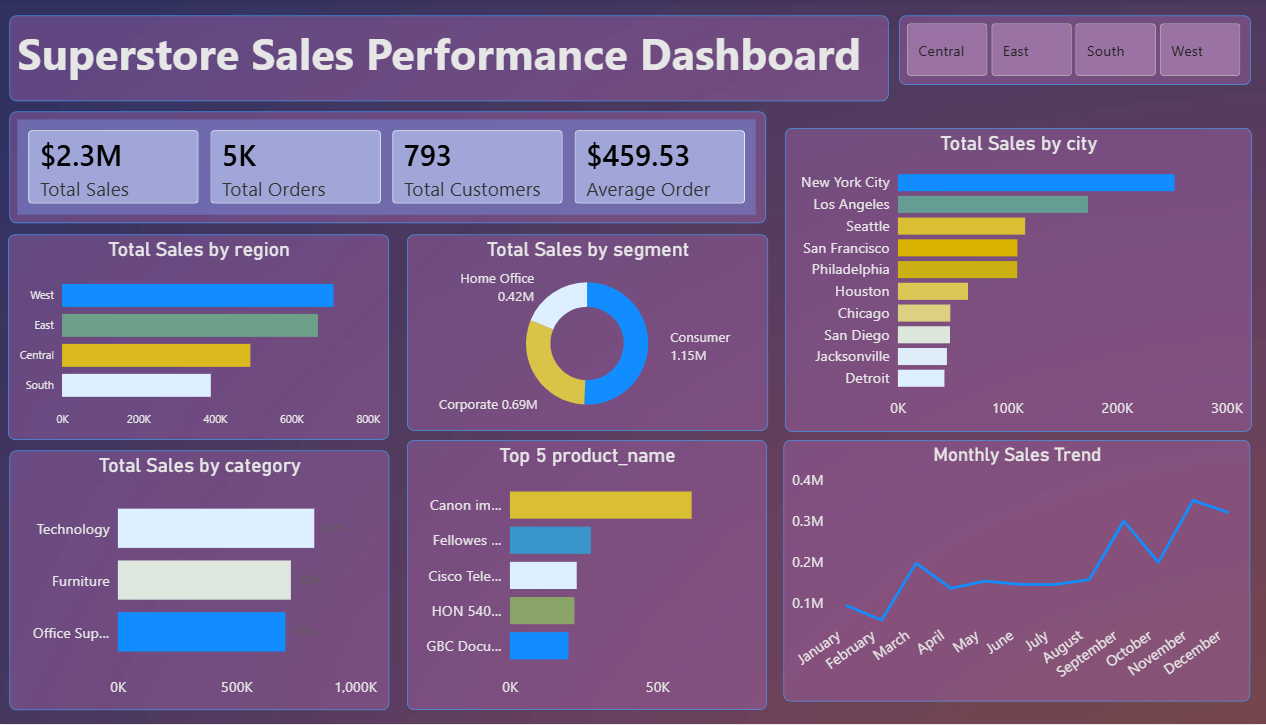

The dashboard page shown, as its layout file describes it:
{"tool":"powerbi","page":{"name":"Page 1","canvas":[1400,800],"ordinal":0},"visuals":[{"type":"cardVisual","fields":{"Data":["public superstore.Total Sales","public superstore.Total Orders","public superstore.Total Customers","public superstore.Avergae Order Value"]},"box":[11.7,125,835,123.3],"z":0},{"type":"textbox","box":[11.6,18.2,970.5,94.4],"z":1000},{"type":"lineChart","title":"Monthly Sales Trend","fields":{"Y":["public superstore.Total Sales"],"Category":["public superstore.order_date.Variation.Date Hierarchy.Month"]},"box":[866.2,486.9,515.1,298.1],"z":2000},{"type":"clusteredBarChart","title":"Top 5 product_name","fields":{"Category":["public superstore.product_name"],"Y":["public superstore.Total Sales"]},"box":[450.7,486.2,397.5,298.1],"z":3000},{"type":"clusteredBarChart","fields":{"Category":["public superstore.category"],"Y":["public superstore.Total Sales"]},"box":[11.6,498.5,419,286.5],"z":4000},{"type":"clusteredBarChart","fields":{"Category":["public superstore.region"],"Y":["public superstore.Total Sales"]},"box":[9.9,260,420.7,226.9],"z":5000},{"type":"advancedSlicerVisual","fields":{"Values":["public superstore.region"]},"box":[993.3,18.3,388.3,76.7],"z":6000},{"type":"donutChart","fields":{"Category":["public superstore.segment"],"Y":["public superstore.Total Sales"]},"box":[450,260,398.3,216.7],"z":7000},{"type":"clusteredBarChart","fields":{"Category":["public superstore.city"],"Y":["public superstore.Total Sales"]},"box":[868.3,141.7,515,335],"z":8000}]}

Visuals, with their boxes in screenshot pixels (x1, y1, x2, y2), scaled from the page's 1400x800 canvas onto the 1266x725 screenshot:
cardVisual - public superstore.Total Sales x public superstore.Total Orders: x1=11, y1=113, x2=766, y2=225
textbox: x1=10, y1=16, x2=888, y2=102
"Monthly Sales Trend" lineChart: x1=783, y1=441, x2=1249, y2=711
"Top 5 product_name" clusteredBarChart: x1=408, y1=441, x2=767, y2=711
clusteredBarChart - public superstore.category x public superstore.Total Sales: x1=10, y1=452, x2=389, y2=711
clusteredBarChart - public superstore.region x public superstore.Total Sales: x1=9, y1=236, x2=389, y2=441
advancedSlicerVisual - public superstore.region: x1=898, y1=17, x2=1249, y2=86
donutChart - public superstore.segment x public superstore.Total Sales: x1=407, y1=236, x2=767, y2=432
clusteredBarChart - public superstore.city x public superstore.Total Sales: x1=785, y1=128, x2=1251, y2=432
